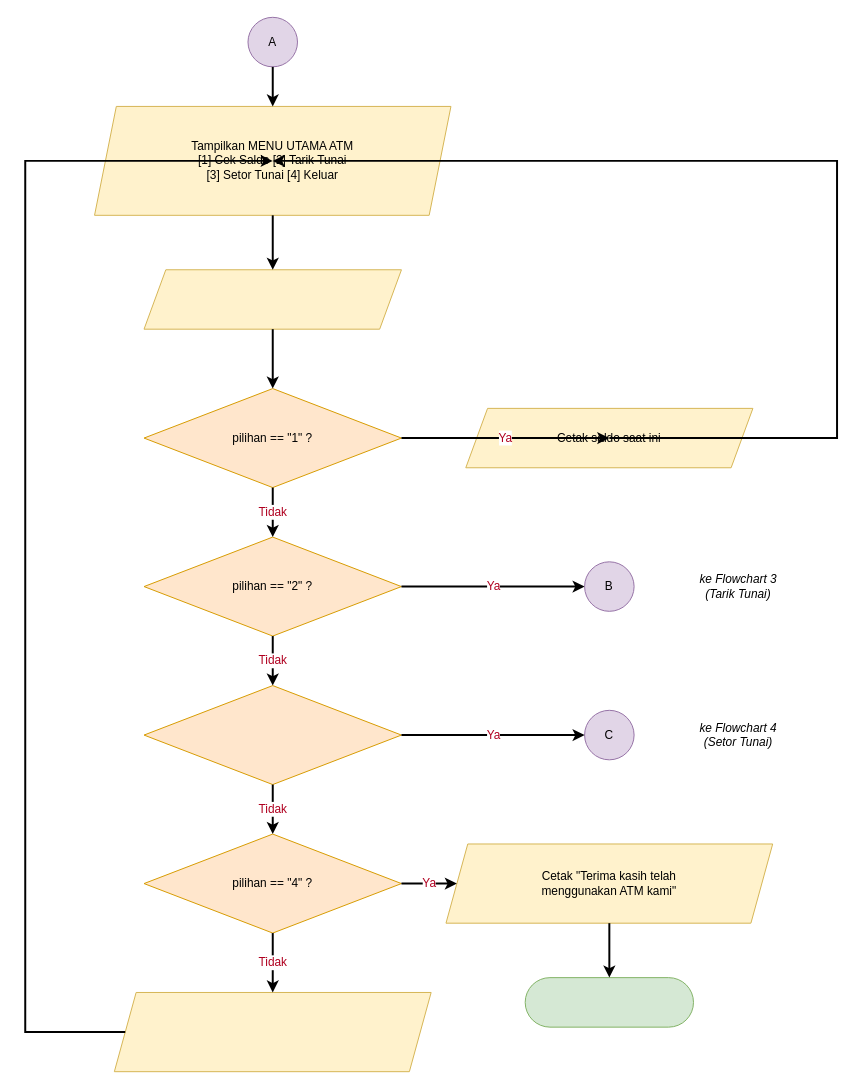
Some shapes in this 862 by 1089 pixel diagram are drawn without their labels. Here are the shapes that lost their labels. From the top down, the box of each, then its label:
(143, 269, 401, 329): Input pilihan
(143, 685, 401, 785): pilihan == "3" ?
(524, 977, 693, 1027): Selesai
(113, 991, 431, 1072): Cetak "Pilihan tidak valid! Masukkan angka 1 - 4"
